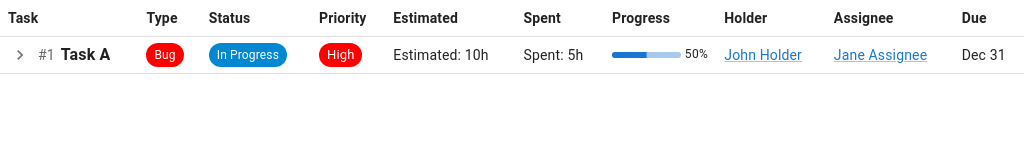
ProjectTaskList › shows nested subtasks when expanding parent then child
Expected: the text "Task B" is not shown
Expected: the text "Task C" is not shown
Click the button named "expand subtasks" at (20, 55), box left=8, top=43, right=32, bottom=67
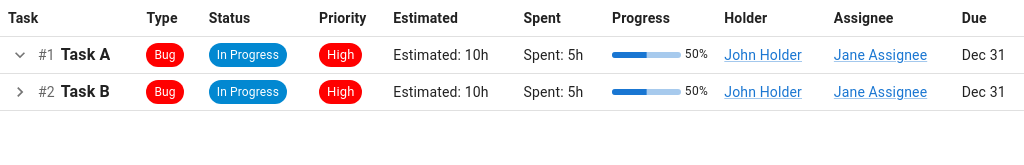
Expected: the text "Task C" is not shown
Result: the link "Task B" is shown at left=61, top=80, right=110, bottom=104
Click the button named "expand subtasks" at (20, 92), box left=8, top=80, right=32, bottom=104
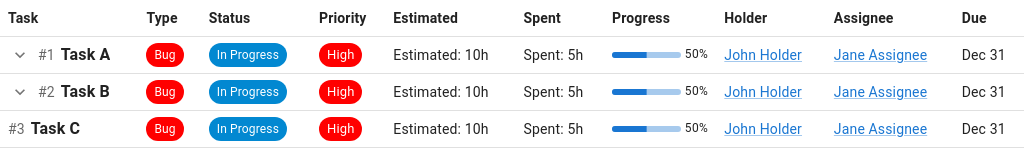
Result: the link "Task C" is shown at left=31, top=117, right=80, bottom=141
